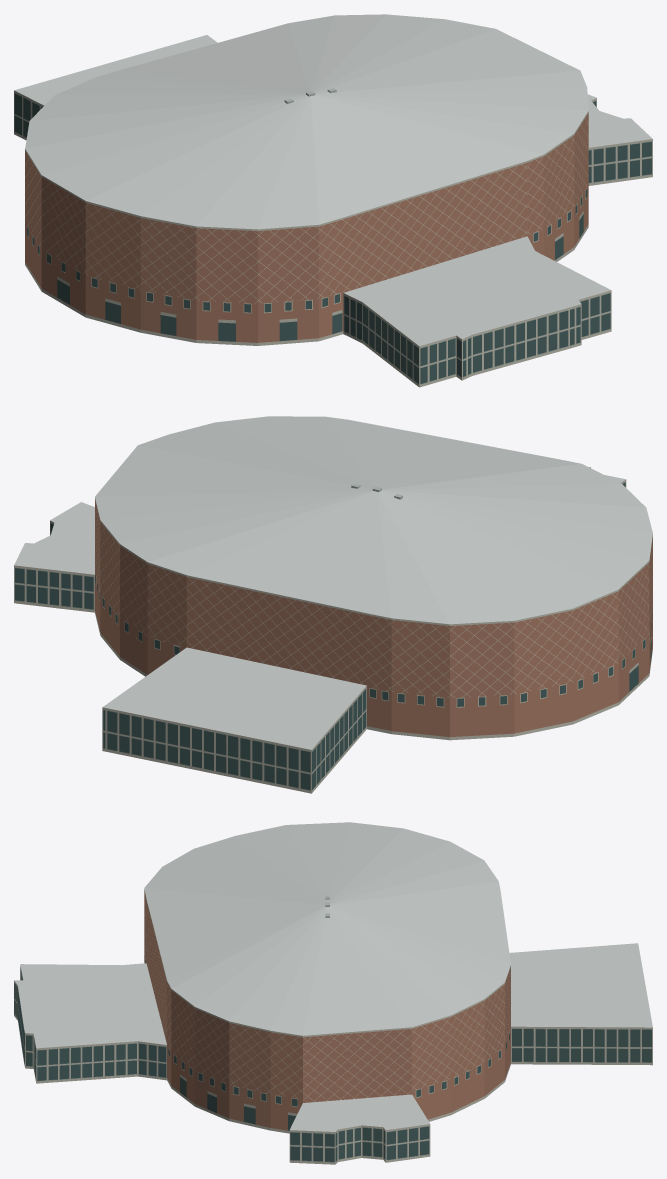
The model's file is north-charleston-coliseum-near.glb.
3 renders of one model, top to bottom at view 1: azimuth 30°, elevation 25°; view 2: azimuth 150°, elevation 25°; view 3: azimuth 270°, elevation 25°, orthographic. The views are drawn at different scales.
Visible parts, largest first — view 1: north-charleston-coliseum-0-roof, north-charleston-coliseum-0-brick, north-charleston-coliseum-0-glass, north-charleston-coliseum-0-stone, north-charleston-coliseum-0-mortar, north-charleston-coliseum-0-frame; view 2: north-charleston-coliseum-0-roof, north-charleston-coliseum-0-brick, north-charleston-coliseum-0-glass, north-charleston-coliseum-0-mortar, north-charleston-coliseum-0-stone, north-charleston-coliseum-0-frame; view 3: north-charleston-coliseum-0-roof, north-charleston-coliseum-0-brick, north-charleston-coliseum-0-glass, north-charleston-coliseum-0-stone, north-charleston-coliseum-0-mortar, north-charleston-coliseum-0-frame.
Boxes of the visible parts, x1=… form: north-charleston-coliseum-0-roof: x1=14, y1=14, x2=652, y2=346; north-charleston-coliseum-0-brick: x1=25, y1=113, x2=588, y2=342; north-charleston-coliseum-0-glass: x1=14, y1=94, x2=651, y2=383; north-charleston-coliseum-0-stone: x1=14, y1=90, x2=652, y2=387; north-charleston-coliseum-0-mortar: x1=25, y1=117, x2=588, y2=313; north-charleston-coliseum-0-frame: x1=14, y1=93, x2=651, y2=384; north-charleston-coliseum-0-roof: x1=14, y1=416, x2=652, y2=749; north-charleston-coliseum-0-brick: x1=95, y1=500, x2=652, y2=736; north-charleston-coliseum-0-glass: x1=15, y1=482, x2=652, y2=790; north-charleston-coliseum-0-mortar: x1=95, y1=502, x2=652, y2=707; north-charleston-coliseum-0-stone: x1=14, y1=467, x2=652, y2=793; north-charleston-coliseum-0-frame: x1=15, y1=482, x2=625, y2=790; north-charleston-coliseum-0-roof: x1=14, y1=822, x2=652, y2=1131; north-charleston-coliseum-0-brick: x1=144, y1=890, x2=510, y2=1130; north-charleston-coliseum-0-glass: x1=14, y1=955, x2=651, y2=1161; north-charleston-coliseum-0-stone: x1=14, y1=889, x2=652, y2=1164; north-charleston-coliseum-0-mortar: x1=144, y1=893, x2=510, y2=1107; north-charleston-coliseum-0-frame: x1=14, y1=983, x2=651, y2=1162.
Bounding box in the file's own units: 135 × 32.53 × 151.
